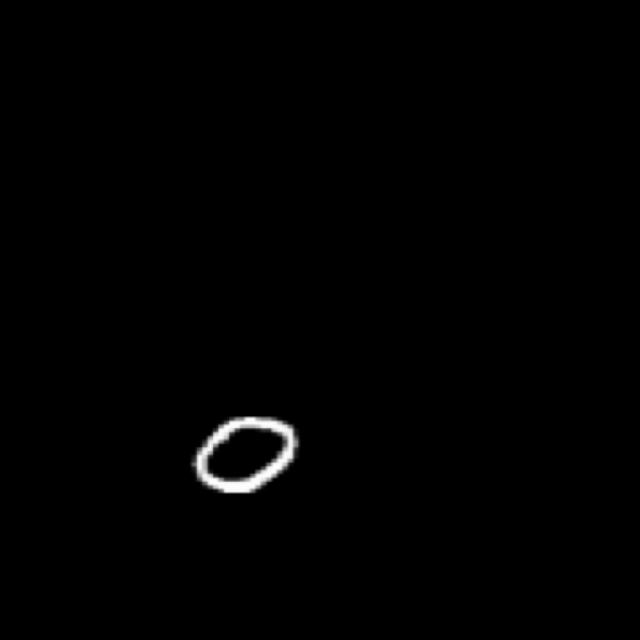zero -0-: (175, 399, 311, 510)
